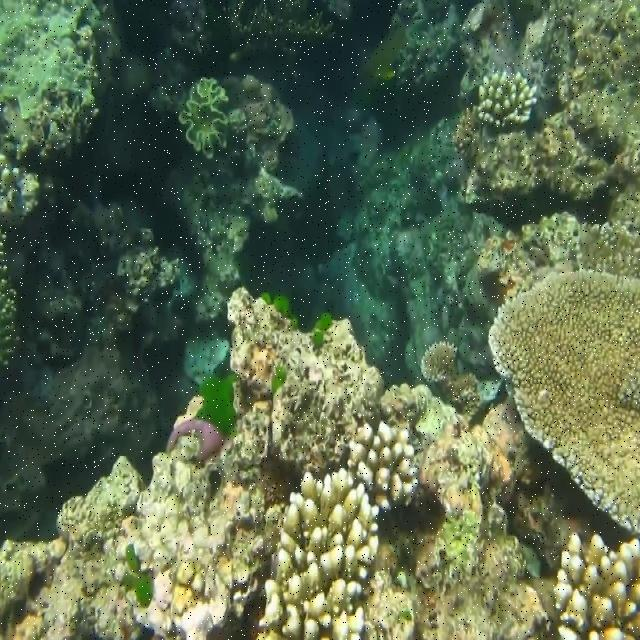reefs: (491, 272, 639, 529), (260, 418, 419, 639), (550, 532, 639, 639), (178, 72, 230, 159), (477, 65, 543, 133)
